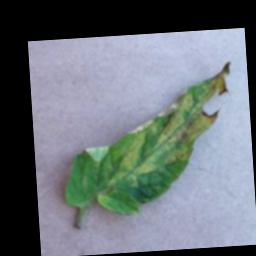Leaf_Mold: (99, 71, 233, 190)
